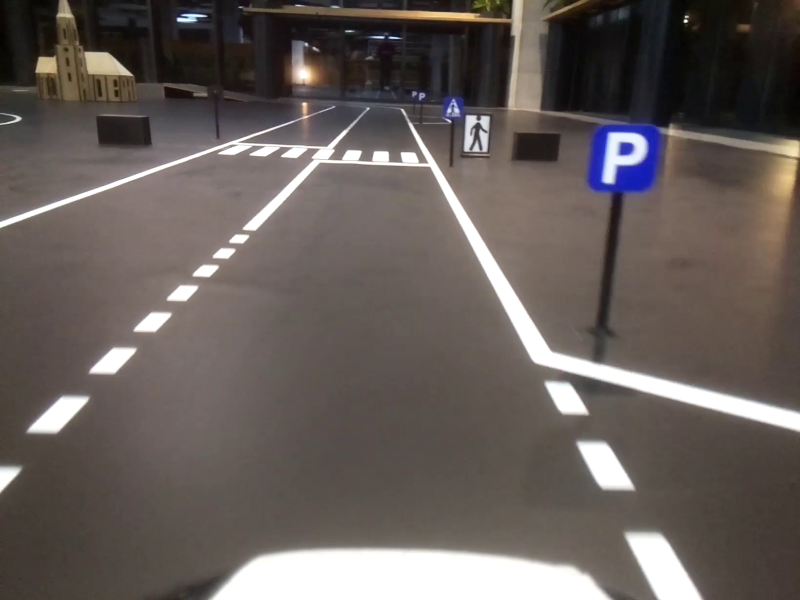park: (587, 129, 661, 195)
